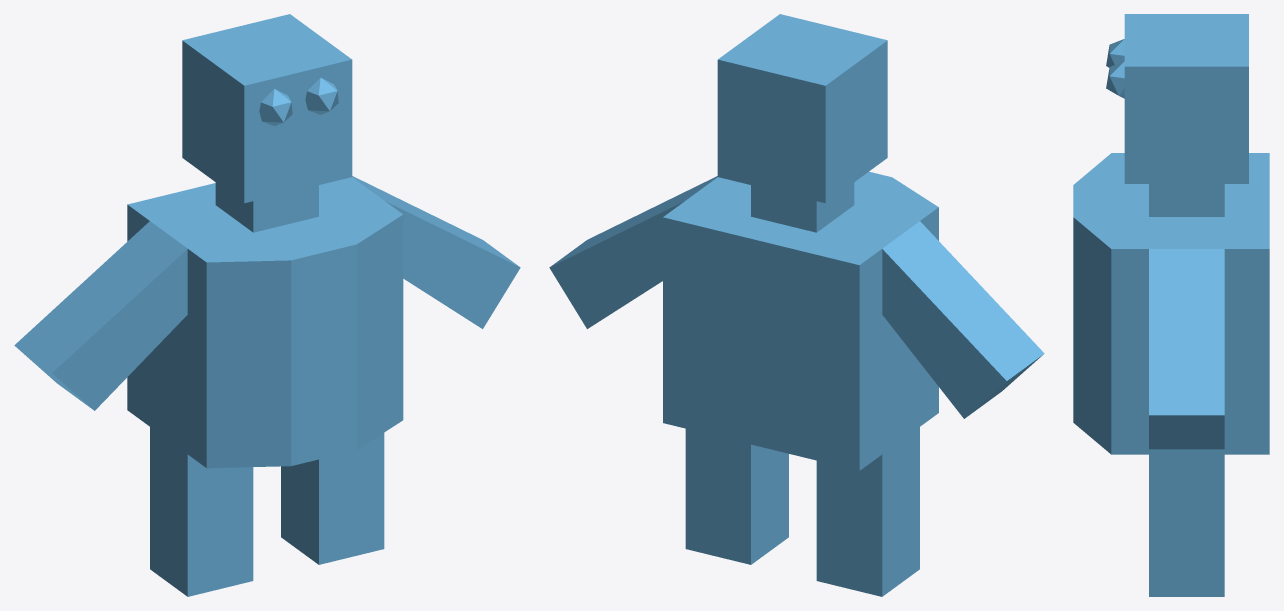
Rendered from robot.gltf.
The picture shows the model from 3 angles, left to right: view 1: azimuth 30°, elevation 25°; view 2: azimuth 150°, elevation 25°; view 3: azimuth 270°, elevation 25°; orthographic projection.
Parts seen in each view (by area): view 1: Cube; view 2: Cube; view 3: Cube.
Part boxes in pixels (x1,y1,x2,y2): Cube: (14, 14, 520, 596); Cube: (549, 14, 1044, 596); Cube: (1073, 14, 1269, 596).
Bounding box in the file's own units: 4.71 × 4.95 × 1.73.
